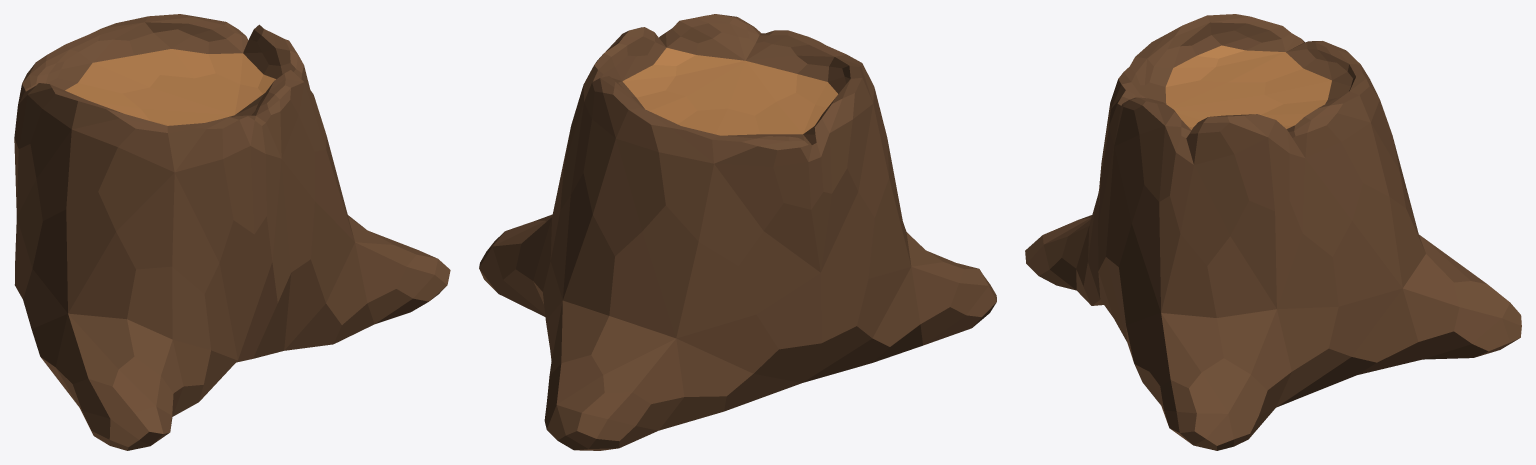
The model's file is stamp#001.glb.
3 renders of one model, left to right at view 1: azimuth 30°, elevation 25°; view 2: azimuth 150°, elevation 25°; view 3: azimuth 270°, elevation 25°, orthographic. The views are drawn at different scales.
Parts seen in each view (by area): view 1: Stump3; view 2: Stump3; view 3: Stump3.
Boxes of the visible parts, x1,y1,x2,y2 form: Stump3: (14, 14, 450, 450); Stump3: (479, 14, 996, 450); Stump3: (1025, 14, 1521, 450).
Size of the model in its own units: 1.69 by 1.09 by 1.8.
